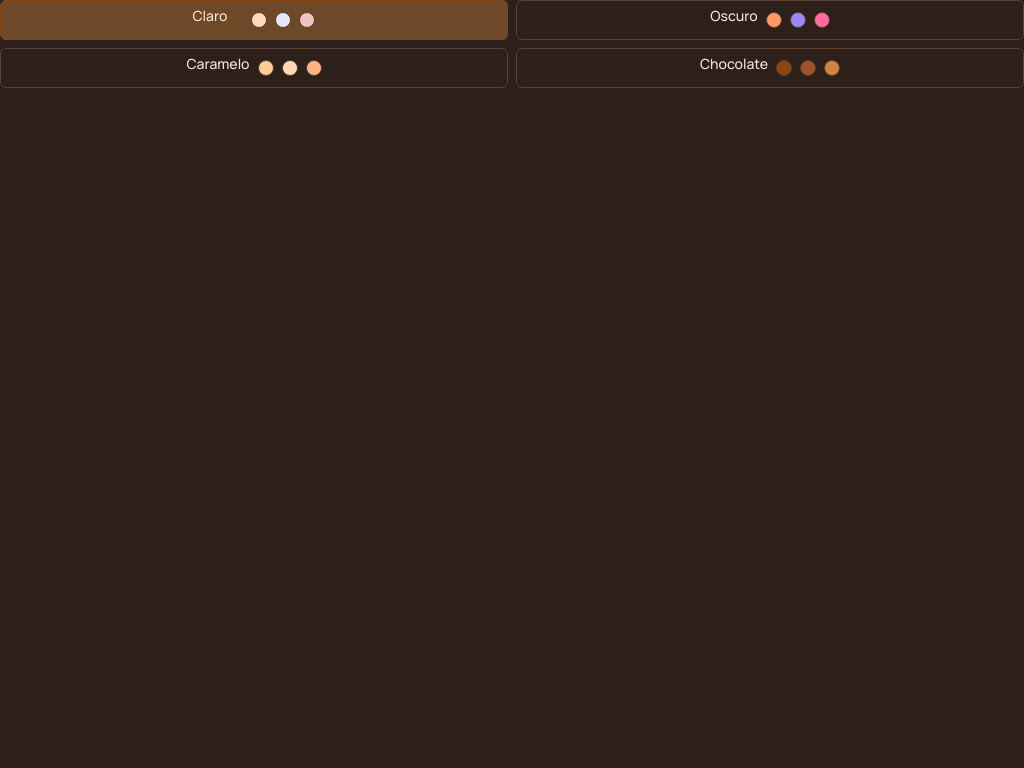
Test: ThemeSelector › shows non-blocking error and restores previous theme when request fails
Click the radio button labelled "Chocolate": (770, 68) [516, 48, 1023, 88]
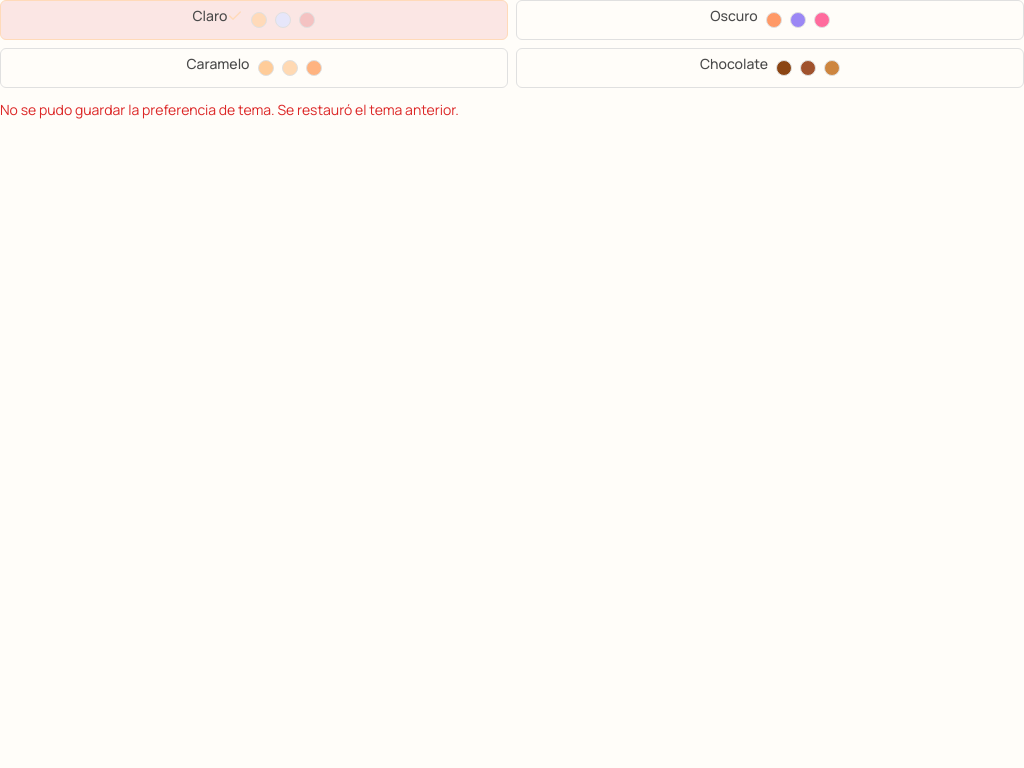
Result: the message reads "No se pudo guardar la preferencia de tema. Se restauró el tema anterior." at [0, 100, 459, 119]
